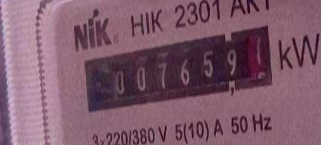0: (114, 65, 128, 93), (135, 63, 149, 90)
1: (253, 34, 265, 65)
5: (201, 46, 216, 79)
6: (179, 54, 193, 85)
7: (156, 56, 171, 88)
9: (225, 43, 240, 77)
screen: (70, 17, 293, 116)
